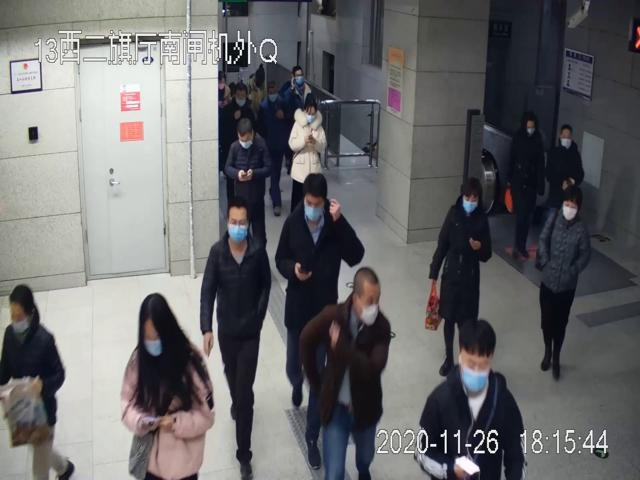person: (274, 173, 366, 462), (199, 202, 272, 480), (297, 268, 392, 480), (122, 292, 215, 479), (1, 285, 74, 480), (430, 178, 493, 377), (536, 184, 589, 378), (224, 117, 271, 256), (287, 92, 328, 215)
